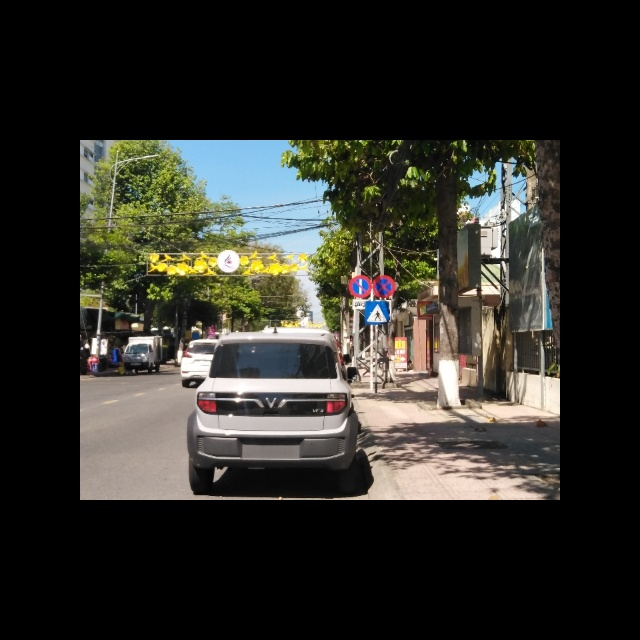Cấm dừng xe và đỗ xe: (374, 276, 396, 299)
Cấm đỗ xe ngày lẻ: (348, 275, 372, 298)
Đường dành cho người đi bộ: (364, 302, 389, 325)
